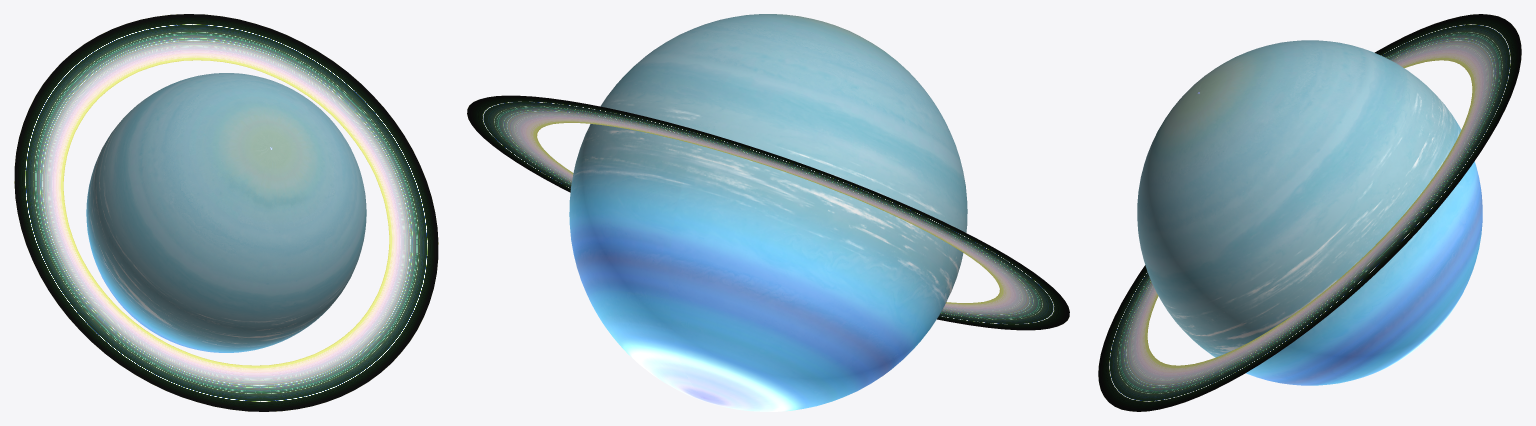
Rendered from Uranus.fbx.
3 renders of one model, left to right at view 1: azimuth 30°, elevation 25°; view 2: azimuth 150°, elevation 25°; view 3: azimuth 270°, elevation 25°, orthographic. The views are drawn at different scales.
Visible parts, largest first — view 1: 169, 180; view 2: 169, 180; view 3: 169, 180.
Boxes of the visible parts, box(x1,y1,x2,y2) form: 169: box(86, 73, 366, 352); 180: box(14, 14, 438, 411); 169: box(569, 14, 967, 411); 180: box(467, 95, 1069, 330); 169: box(1137, 40, 1482, 385); 180: box(1098, 14, 1521, 411).
Bounding box in the file's own units: 5.11 × 3.29 × 3.92.
